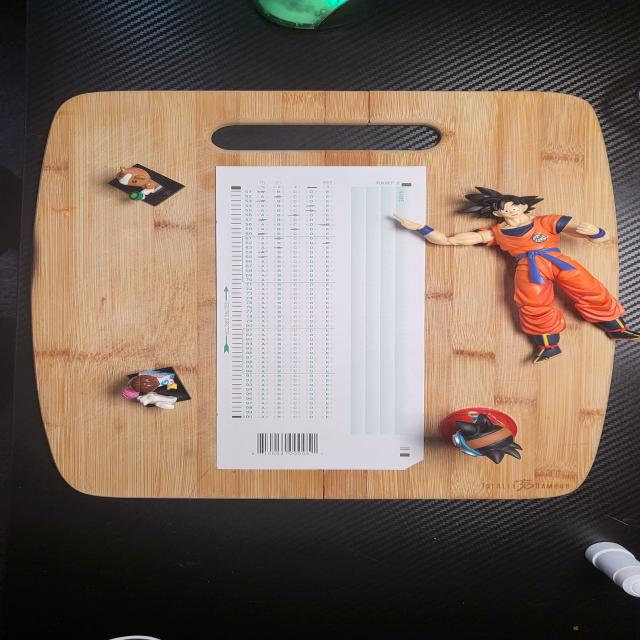scantron_back: (217, 166, 427, 470)
